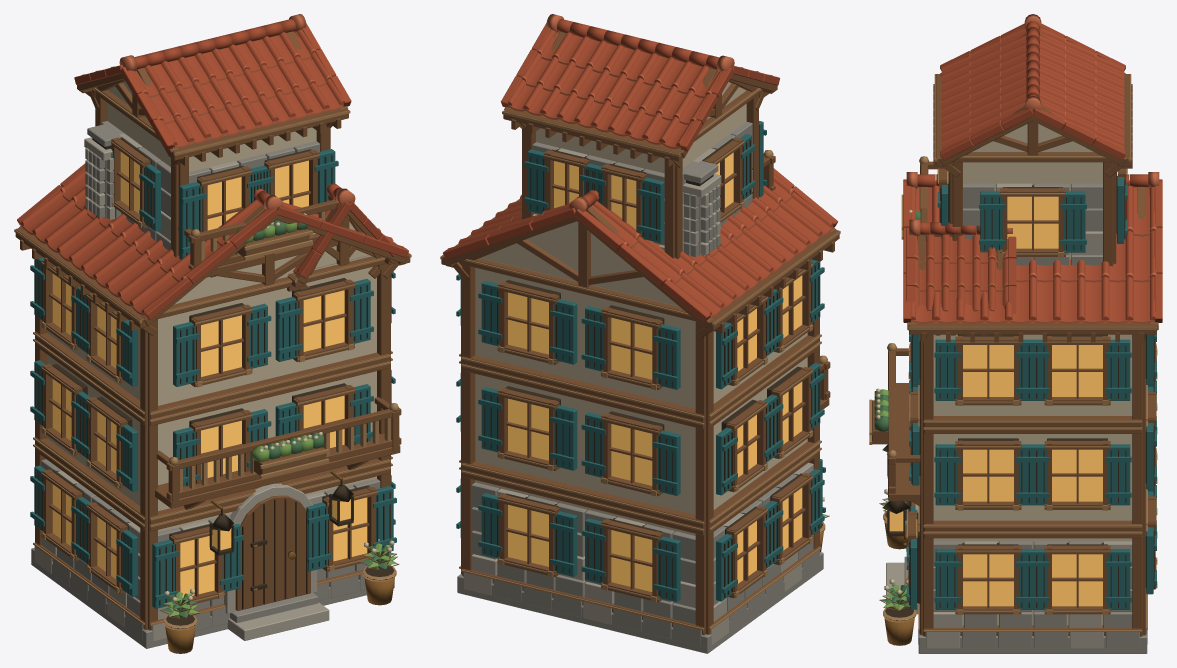
3 renders of one model, left to right at view 1: azimuth 30°, elevation 25°; view 2: azimuth 150°, elevation 25°; view 3: azimuth 270°, elevation 25°, orthographic.
Visible parts, largest first — view 1: alpine_villa_3_geometry; view 2: alpine_villa_3_geometry; view 3: alpine_villa_3_geometry.
Boxes of the visible parts, x1,y1,x2,y2 form: alpine_villa_3_geometry: (14,14,411,653); alpine_villa_3_geometry: (440,14,840,653); alpine_villa_3_geometry: (869,14,1162,653).
Size of the model in its own units: 0.9348 by 1.76 by 0.8713.
